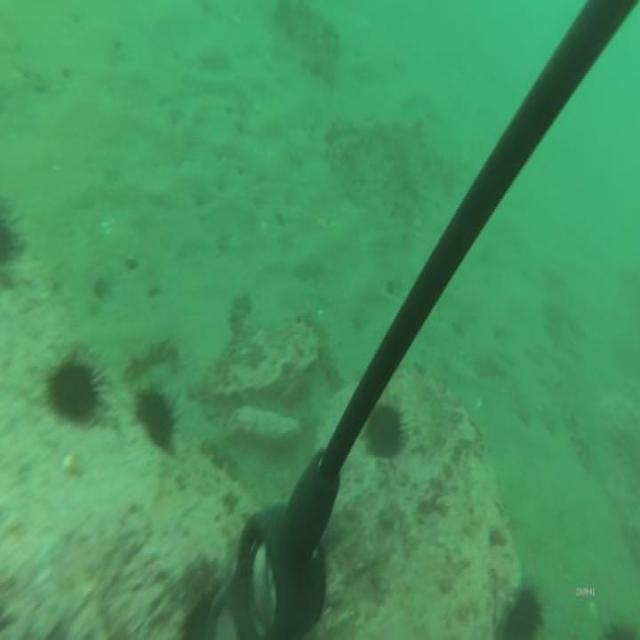echinus: (43, 335, 113, 422), (132, 375, 184, 455), (491, 572, 549, 640), (364, 402, 412, 464)
